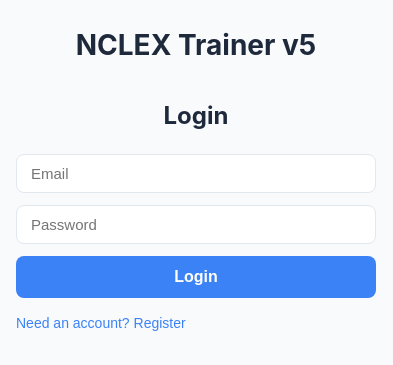
App › shows error for non-Error throw
The image size is (393, 365).
Type "x@x.com" into the field with placeholder "Email". click: (196, 174)
box: [16,154,376,193]
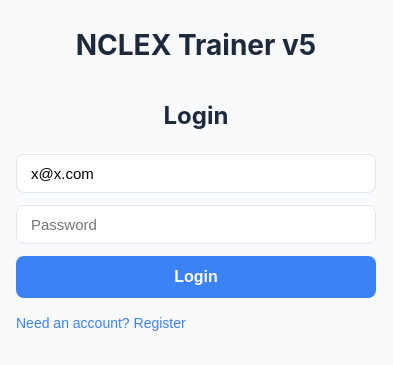
Type "12345678" into the password field with placeholder "Password". click: (196, 224)
box: [16,205,376,244]
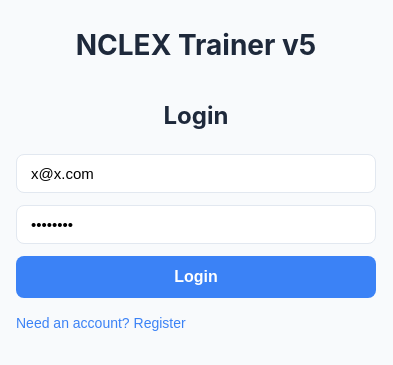
Submit the form from the button "Login", box [16,256,376,298]
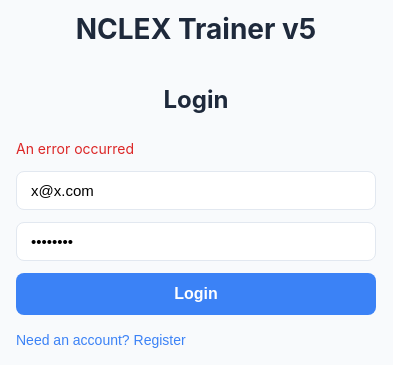
expect the text "An error occurred" is shown: met, box [16,140,134,156]
